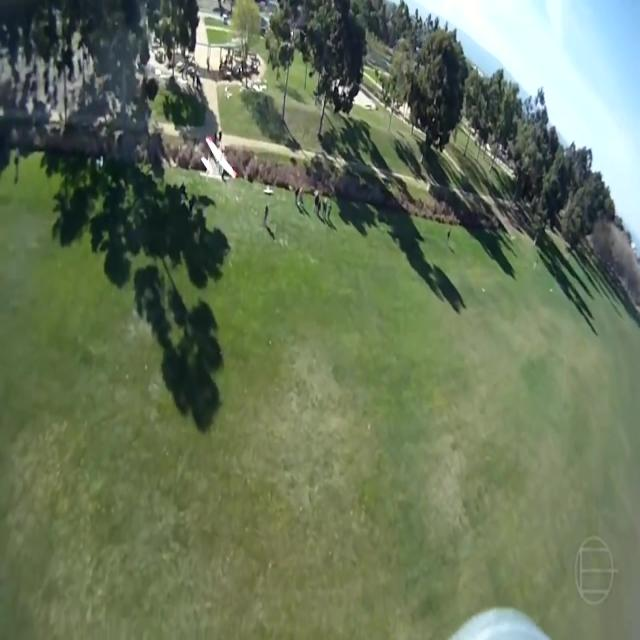iha: (200, 135, 237, 182)
